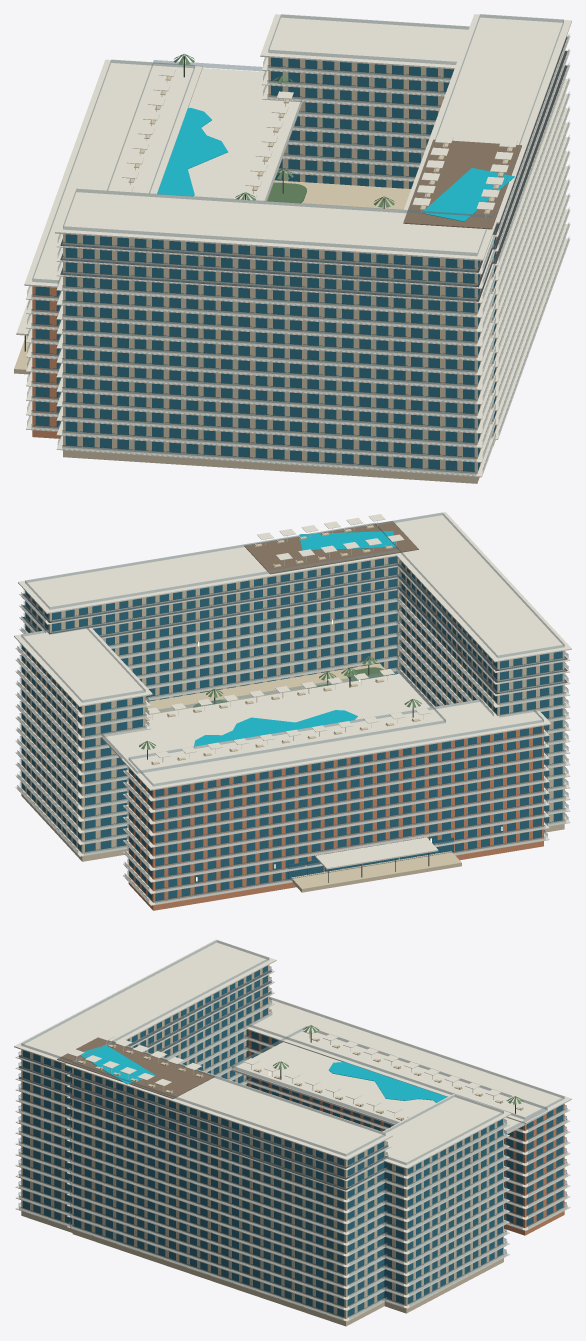
File: ihg.glb
3 views of the same model, one above another, from view 1: azimuth 30°, elevation 25°; view 2: azimuth 150°, elevation 25°; view 3: azimuth 270°, elevation 25° (orthographic). The views are drawn at different scales.
Visible parts, largest first — view 1: Rueckwaertiger Glasfluegel, Heller Hotel-Ostfluegel, Gestaffelter Verbindungsfluegel, Orange Strassenbau - 10 Etagen, Hauptpool-Terrasse - Ebene 10, Skybeach Dachterrasse, Blaue Glasaufbauten, Tiefer liegender Gartenhof, Geschwungener Hauptpool, Rechteckiger Dachpool, Eingang und Schaufenster; view 2: Orange Strassenbau - 10 Etagen, Heller Hotel-Ostfluegel, Rueckwaertiger Glasfluegel, Gestaffelter Verbindungsfluegel, Hauptpool-Terrasse - Ebene 10, Eingang und Schaufenster, Skybeach Dachterrasse, Blaue Glasaufbauten, Tiefer liegender Gartenhof, Geschwungener Hauptpool, Rechteckiger Dachpool; view 3: Heller Hotel-Ostfluegel, Rueckwaertiger Glasfluegel, Gestaffelter Verbindungsfluegel, Orange Strassenbau - 10 Etagen, Hauptpool-Terrasse - Ebene 10, Skybeach Dachterrasse, Blaue Glasaufbauten, Geschwungener Hauptpool, Rechteckiger Dachpool.
Boxes of the visible parts, x1,y1,x2,y2 form: Rueckwaertiger Glasfluegel: (55, 188, 498, 483); Heller Hotel-Ostfluegel: (401, 14, 571, 446); Gestaffelter Verbindungsfluegel: (260, 14, 469, 188); Orange Strassenbau - 10 Etagen: (24, 59, 202, 438); Hauptpool-Terrasse - Ebene 10: (107, 54, 302, 201); Skybeach Dachterrasse: (403, 135, 521, 229); Blaue Glasaufbauten: (60, 36, 567, 301); Tiefer liegender Gartenhof: (267, 168, 410, 209); Geschwungener Hauptpool: (157, 108, 227, 196); Rechteckiger Dachpool: (421, 168, 514, 221); Eingang und Schaufenster: (14, 299, 30, 374); Orange Strassenbau - 10 Etagen: (121, 698, 551, 910); Heller Hotel-Ostfluegel: (18, 522, 406, 701); Rueckwaertiger Glasfluegel: (376, 512, 571, 832); Gestaffelter Verbindungsfluegel: (14, 625, 152, 861); Hauptpool-Terrasse - Ebene 10: (101, 667, 445, 773); Eingang und Schaufenster: (288, 837, 461, 892); Skybeach Dachterrasse: (244, 514, 418, 574); Blaue Glasaufbauten: (23, 564, 567, 694); Tiefer liegender Gartenhof: (146, 656, 390, 714); Geschwungener Hauptpool: (194, 710, 357, 746); Rechteckiger Dachpool: (299, 531, 395, 550); Heller Hotel-Ostfluegel: (65, 1040, 392, 1326); Rueckwaertiger Glasfluegel: (14, 939, 276, 1232); Gestaffelter Verbindungsfluegel: (382, 1094, 511, 1313); Orange Strassenbau - 10 Etagen: (244, 996, 571, 1235); Hauptpool-Terrasse - Ebene 10: (231, 1025, 547, 1134); Skybeach Dachterrasse: (57, 1033, 214, 1098); Blaue Glasaufbauten: (18, 970, 387, 1190); Geschwungener Hauptpool: (329, 1062, 447, 1102); Rechteckiger Dachpool: (80, 1045, 155, 1084).
Size of the model in its own units: 140 by 53.1 by 150.
